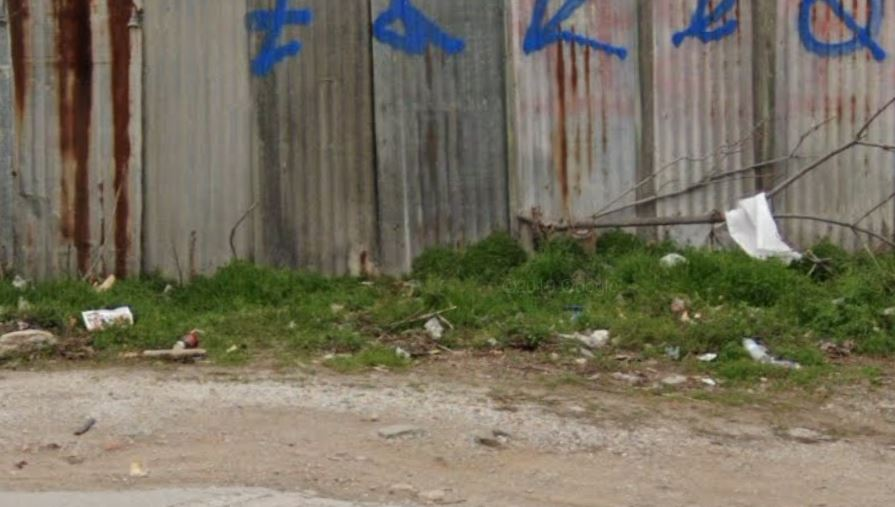trash: (718, 182, 803, 272), (743, 328, 804, 370), (557, 321, 617, 354), (72, 302, 140, 331), (170, 318, 206, 356), (417, 308, 454, 341)
